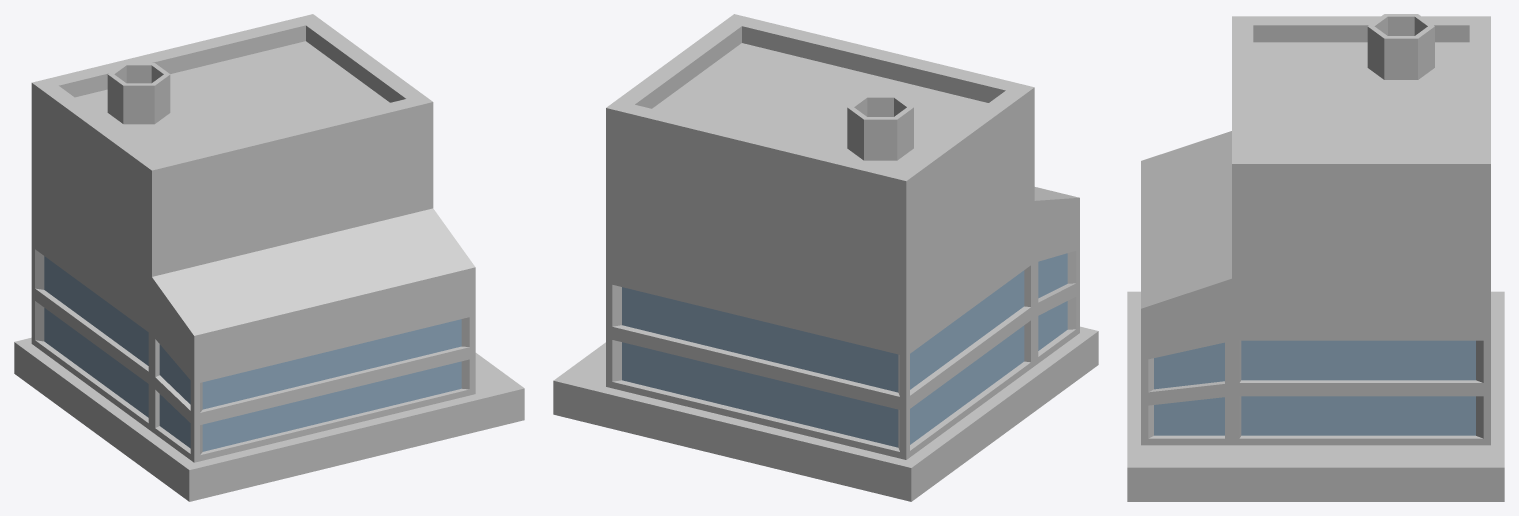
File: Building.fbx
The picture shows the model from 3 angles, left to right: view 1: azimuth 30°, elevation 25°; view 2: azimuth 150°, elevation 25°; view 3: azimuth 270°, elevation 25°; orthographic projection. The views are drawn at different scales.
Visible parts, largest first — view 1: Building; view 2: Building; view 3: Building.
Part boxes in pixels (x1,y1,x2,y2): Building: (14, 14, 524, 501); Building: (553, 14, 1098, 501); Building: (1127, 14, 1504, 501).
Bounding box in the file's own units: 442 × 397 × 400.
